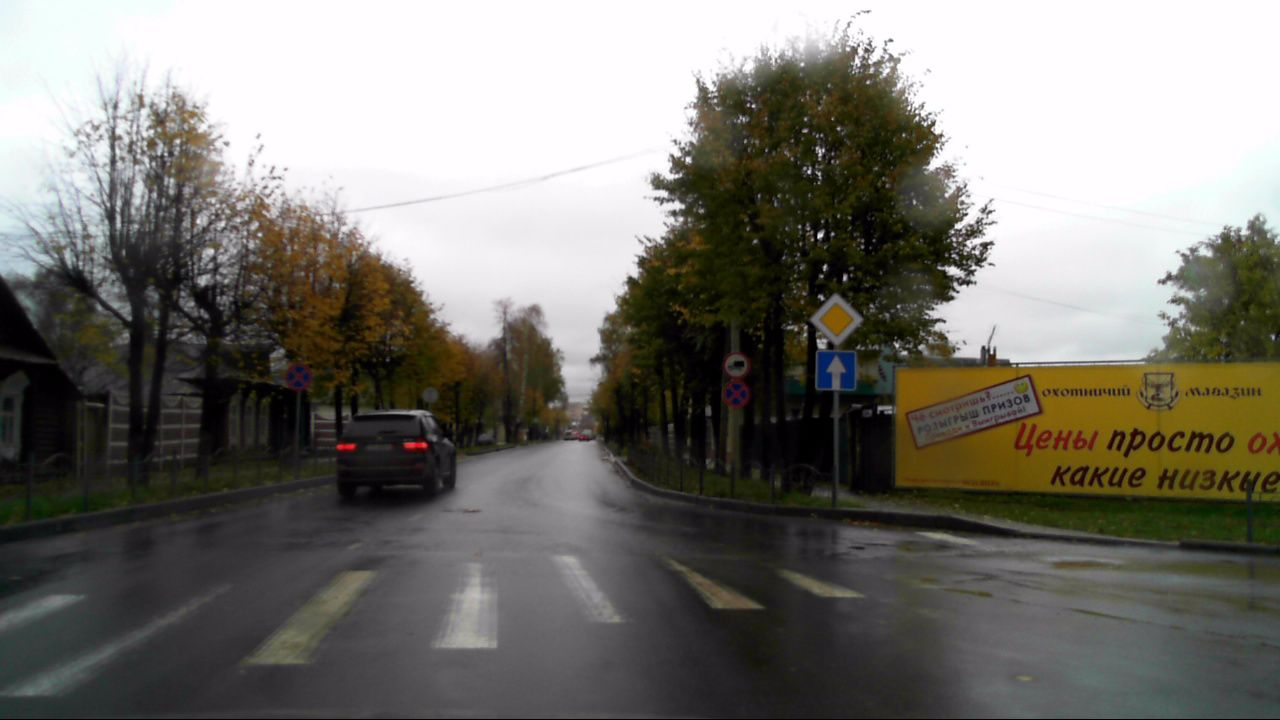No Parking: (285, 363, 313, 390)
